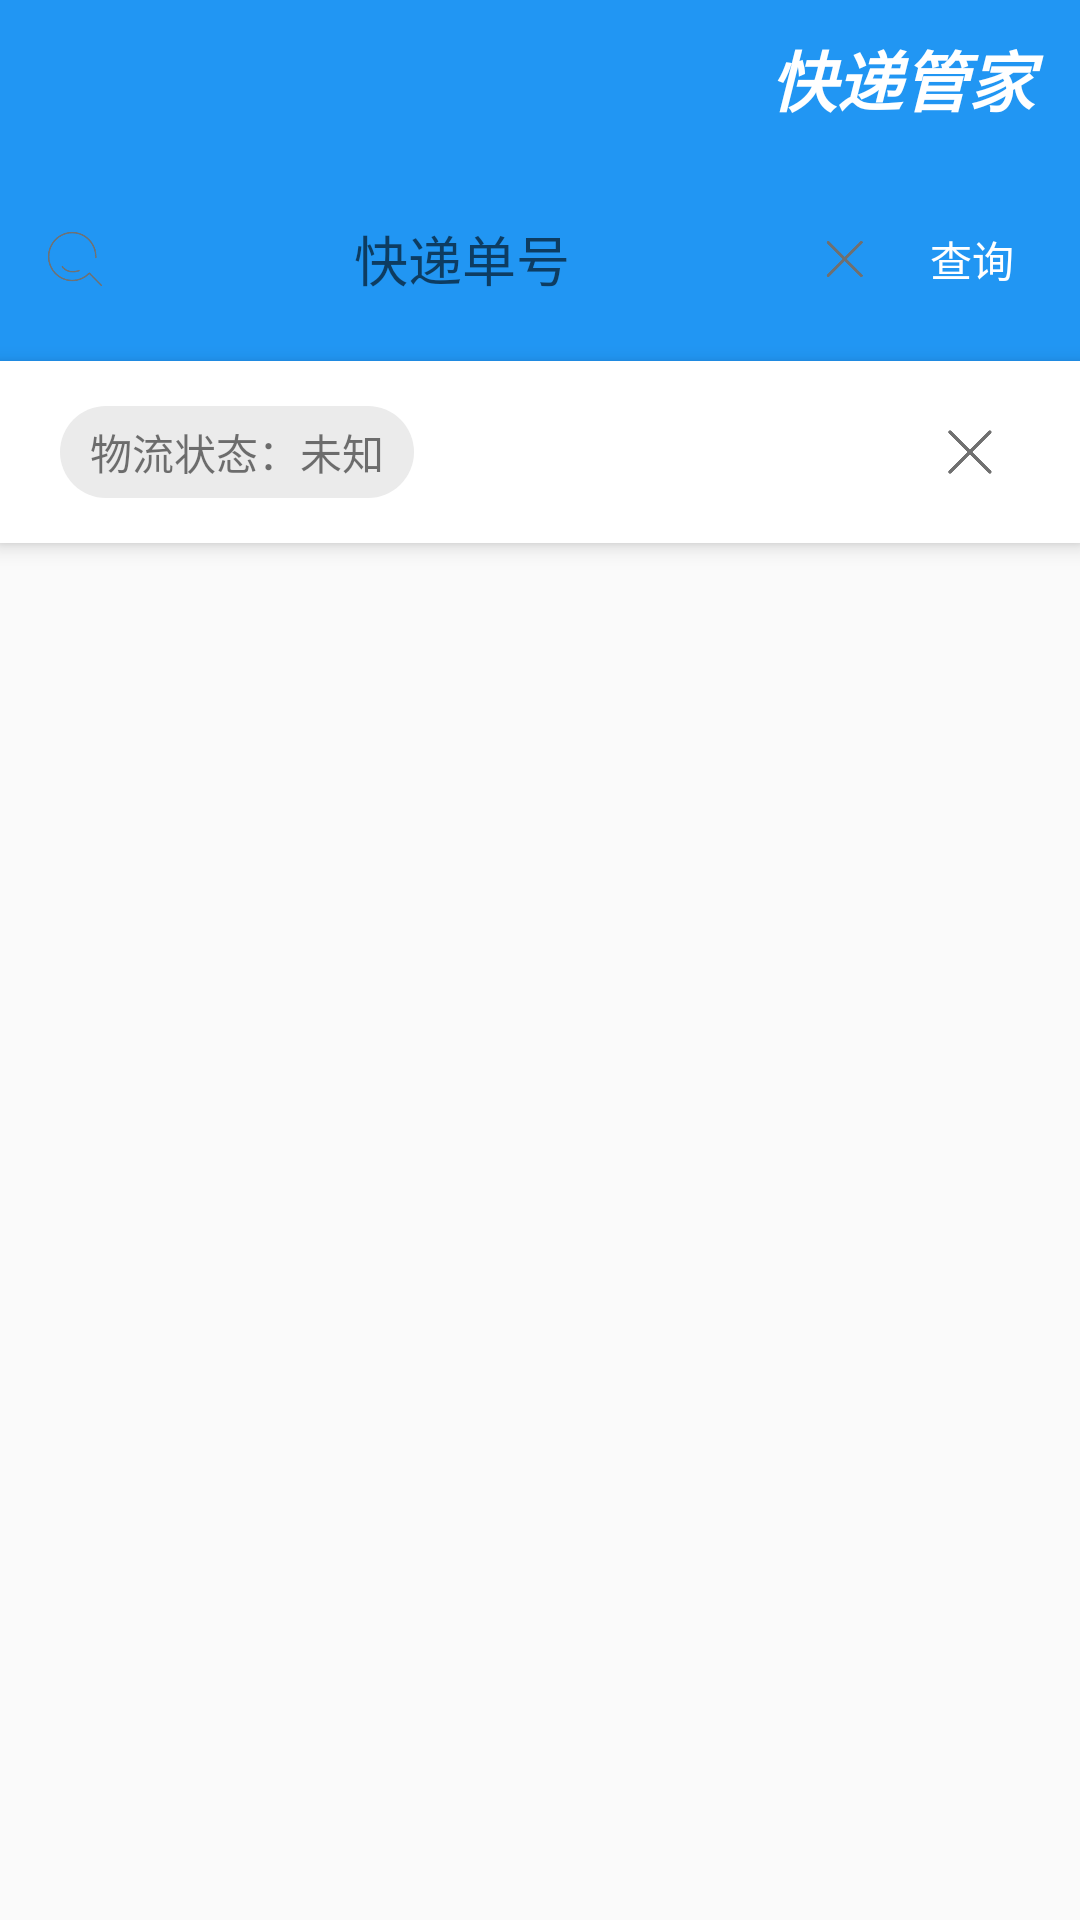

Icon bounding boxes for this 1080 × 1920 phone screenshot, format [left=x1, top=y1, right=x2, bottom=y2]:
delete: [left=827, top=241, right=863, bottom=277], [left=948, top=430, right=992, bottom=474]
search: [left=48, top=232, right=102, bottom=286]
